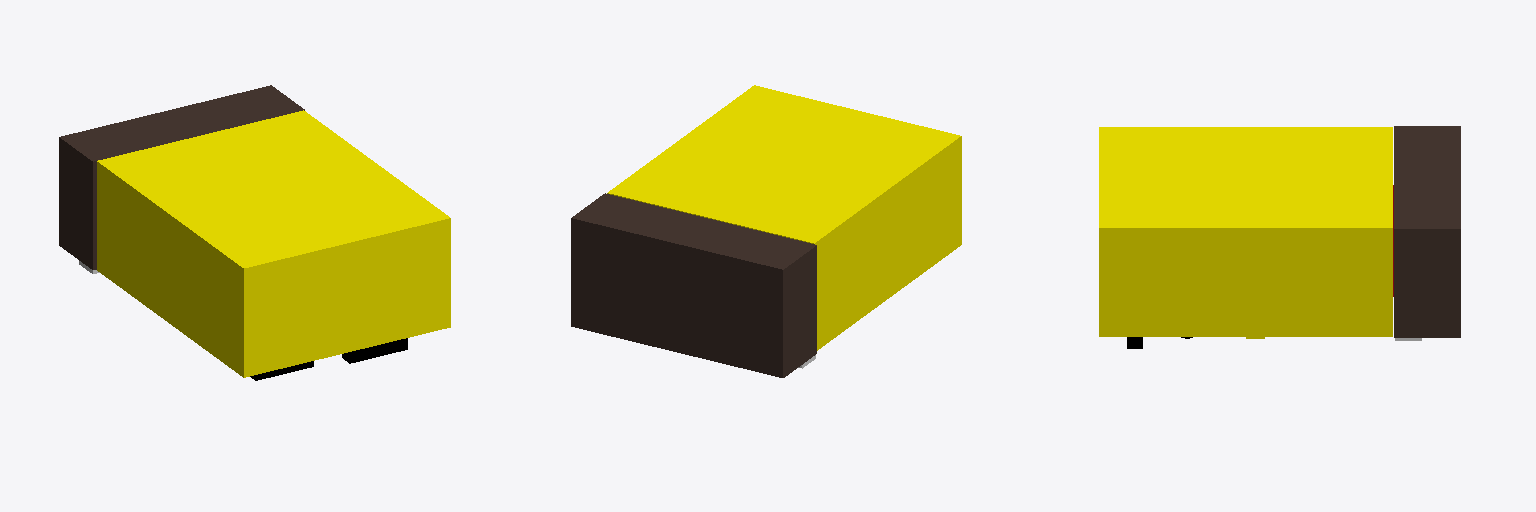
Rendered from spongebody.obj.
3 renders of one model, left to right at view 1: azimuth 30°, elevation 25°; view 2: azimuth 150°, elevation 25°; view 3: azimuth 270°, elevation 25°, orthographic.
Parts seen in each view (by area): view 1: Object.1, Object.2, Object.13; view 2: Object.1, Object.2; view 3: Object.1, Object.2.
Boxes of the visible parts, <box> form: Object.1: <box>97,110,450,377</box>; Object.2: <box>59,85,304,269</box>; Object.13: <box>342,338,407,363</box>; Object.1: <box>607,85,961,350</box>; Object.2: <box>571,193,816,377</box>; Object.1: <box>1099,127,1392,336</box>; Object.2: <box>1394,126,1460,337</box>.
Size of the model in its own units: 29.07 by 20.63 by 43.02.